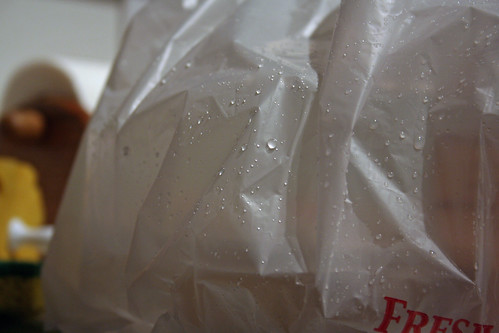plastic bag: (40, 1, 499, 333)
